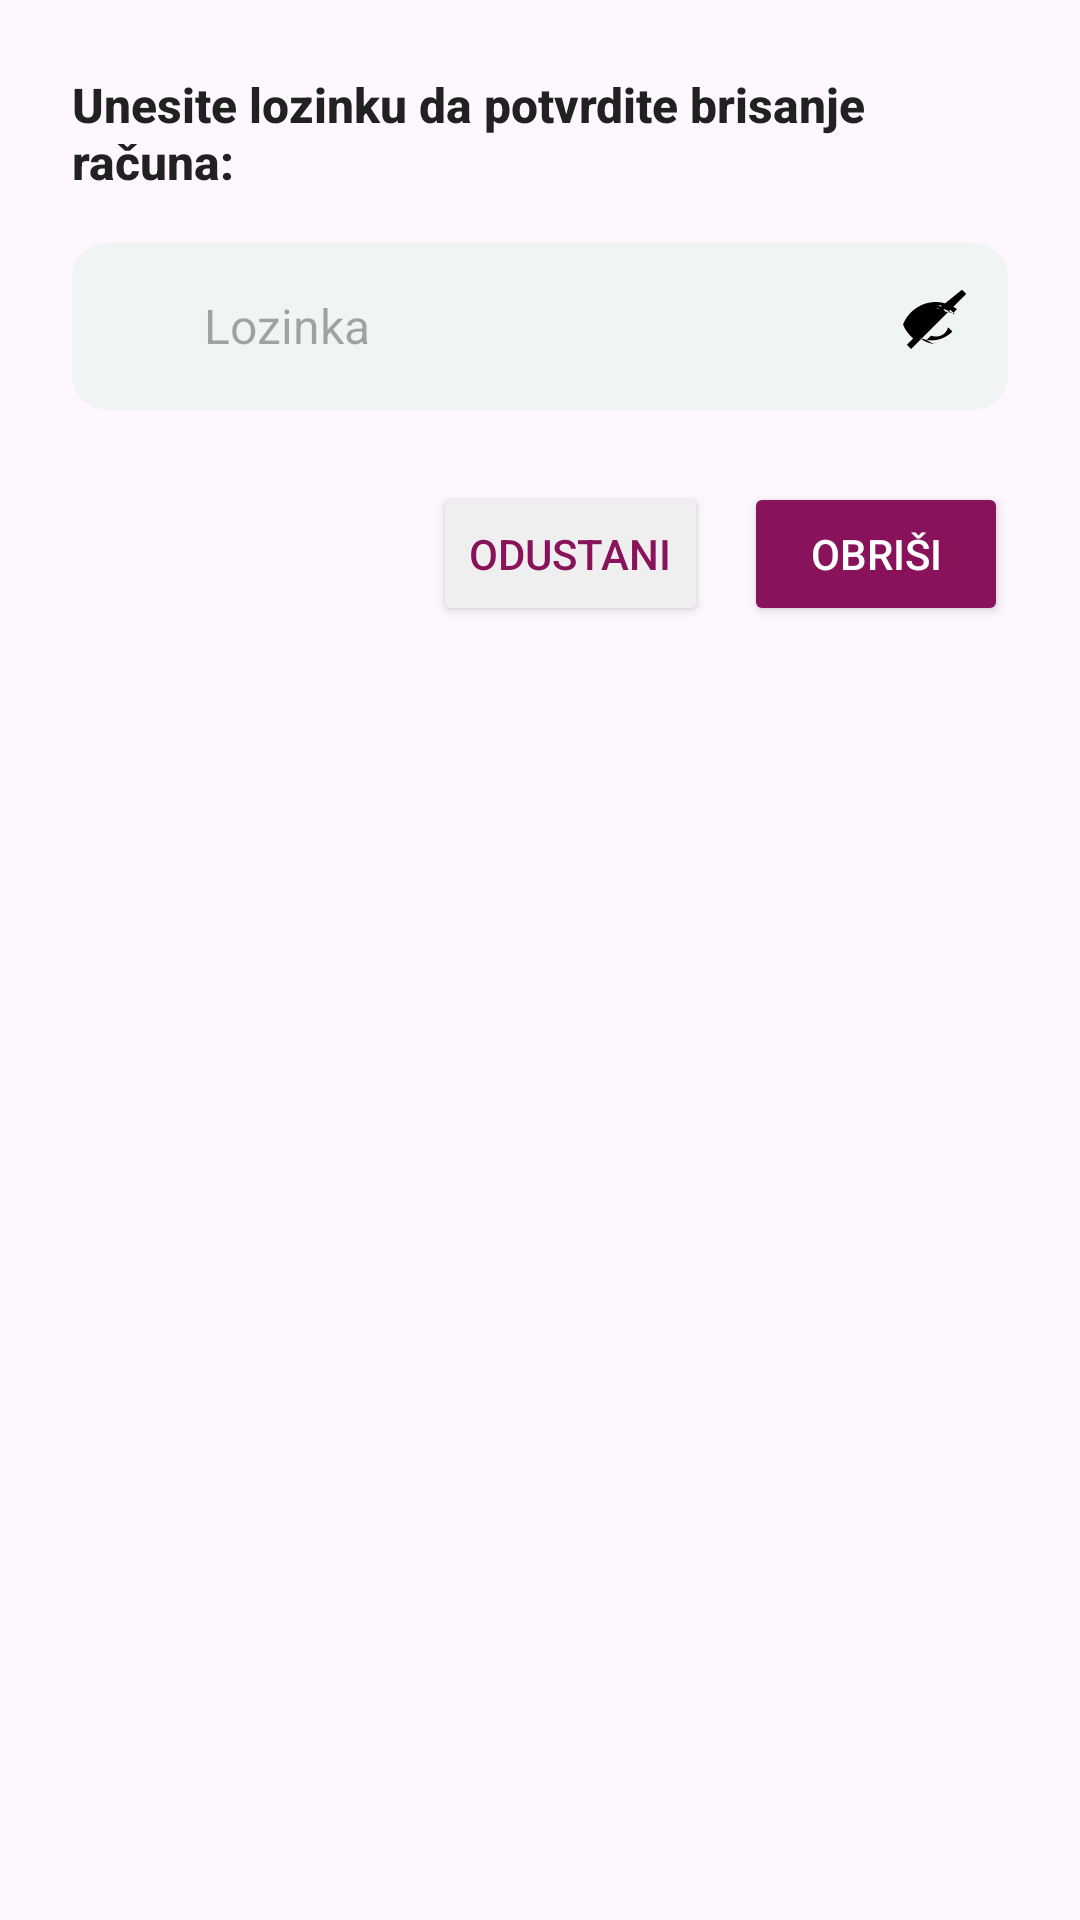

Icons on this 1080 x 1920 Android screen, each with the point to tap as (x=x, y=y):
Toggle password: (x=934, y=319)
